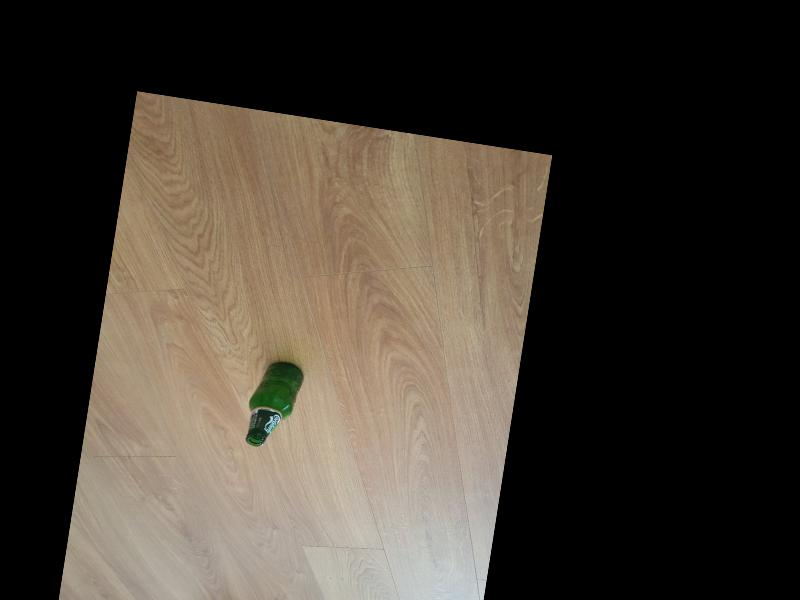Beer: (242, 357, 306, 453)
